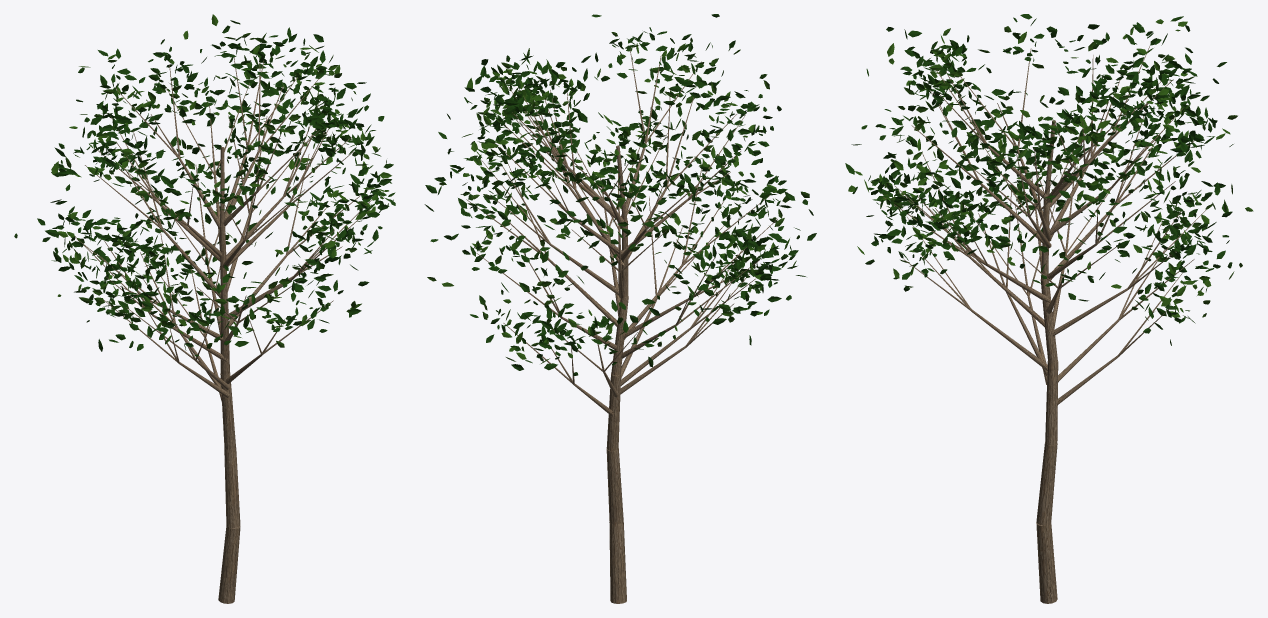
File: broadleaf_2.obj
3 renders of one model, left to right at view 1: azimuth 30°, elevation 25°; view 2: azimuth 150°, elevation 25°; view 3: azimuth 270°, elevation 25°, orthographic. The views are drawn at different scales.
Visible parts, largest first — view 1: Leaf_Green, Tree_Bark, Leaf_Light; view 2: Leaf_Green, Tree_Bark, Leaf_Light; view 3: Leaf_Green, Tree_Bark, Leaf_Light.
Boxes of the visible parts, x1,y1,x2,y2 form: Leaf_Green: (14, 20, 395, 356); Tree_Bark: (75, 54, 372, 603); Leaf_Light: (51, 14, 391, 348); Leaf_Green: (424, 14, 816, 375); Tree_Bark: (466, 48, 777, 603); Leaf_Light: (427, 32, 809, 363); Leaf_Green: (845, 14, 1233, 345); Tree_Bark: (882, 46, 1211, 603); Leaf_Light: (848, 19, 1253, 318).
Size of the model in its own units: 9.34 by 14.13 by 9.3.
3 materials, 1 textured.
